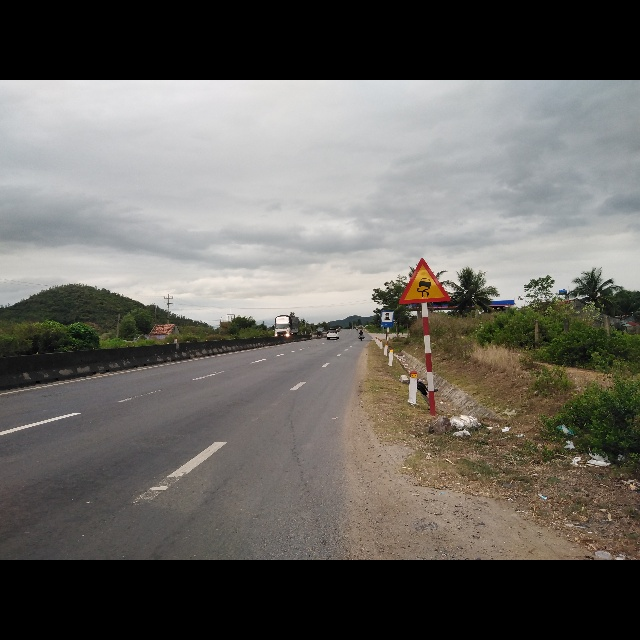Đường trơn trượt: (397, 255, 450, 305)
